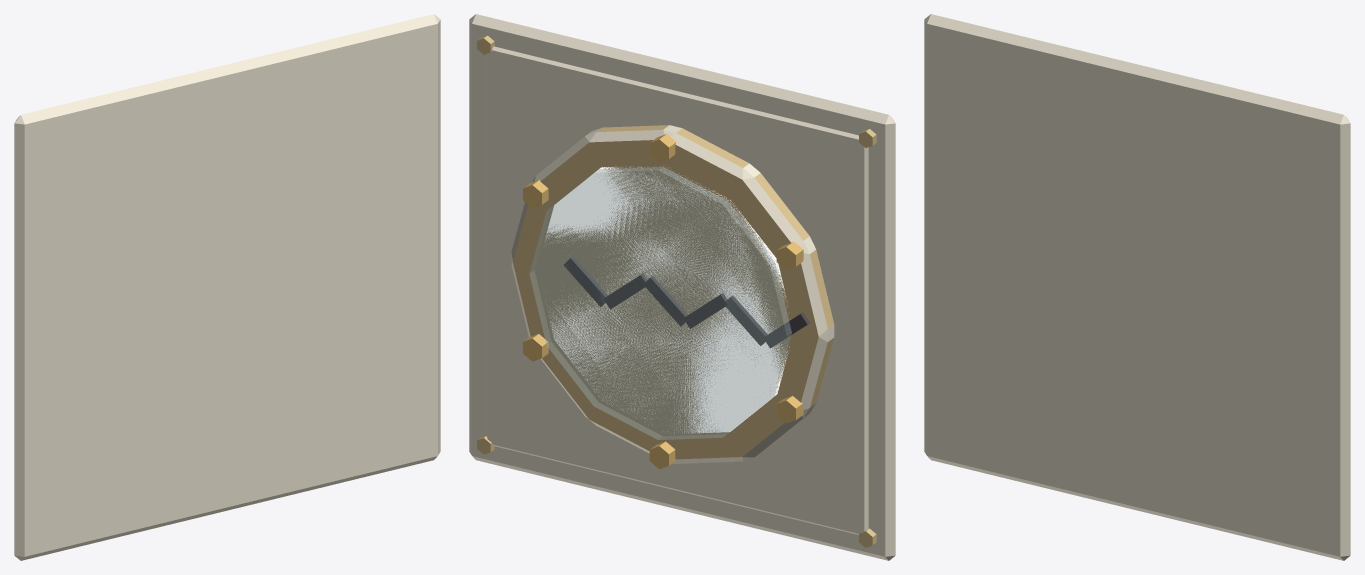
File: Fill_Porthole.fbx
3 renders of one model, left to right at view 1: azimuth 30°, elevation 25°; view 2: azimuth 150°, elevation 25°; view 3: azimuth 330°, elevation 25°, orthographic.
Visible parts, largest first — view 1: Fill_Porthole; view 2: Fill_Porthole; view 3: Fill_Porthole.
Boxes of the visible parts, x1,y1,x2,y2 form: Fill_Porthole: [14, 14, 440, 560]; Fill_Porthole: [469, 14, 895, 560]; Fill_Porthole: [924, 14, 1350, 560].
Bounding box in the file's own units: 0.96 × 0.96 × 0.11.
